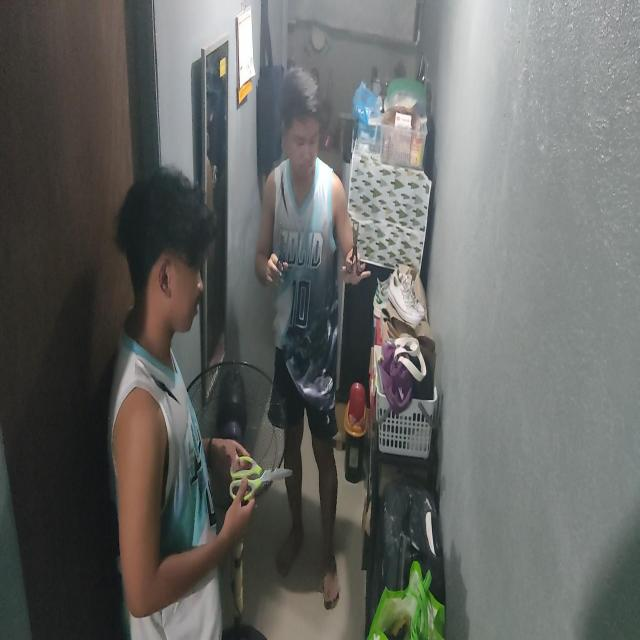scissor: (230, 445, 299, 504), (340, 221, 366, 276)
